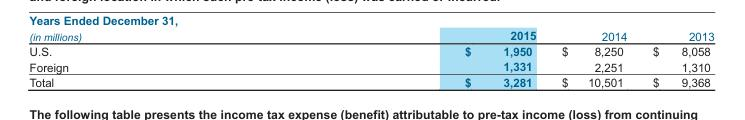table: (28, 28, 713, 88)
table column: (272, 28, 548, 88), (28, 28, 272, 88), (548, 28, 639, 88), (639, 28, 713, 88)
table column header: (28, 28, 713, 43)
table row: (28, 58, 713, 74), (28, 28, 713, 43), (28, 43, 713, 58), (28, 74, 713, 88)
